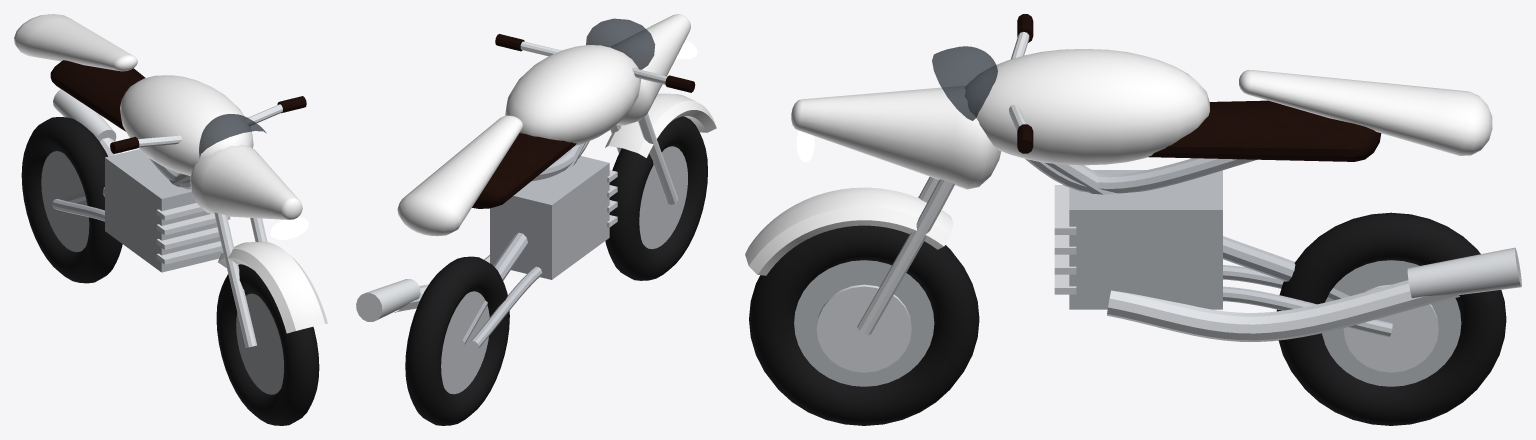
Rendered from moto.glb.
3 renders of one model, left to right at view 1: azimuth 30°, elevation 25°; view 2: azimuth 150°, elevation 25°; view 3: azimuth 270°, elevation 25°, orthographic. The views are drawn at different scales.
Visible parts, largest first — view 1: moto; view 2: moto; view 3: moto.
Part boxes in pixels (box(x1,y1,x2,y2)): moto: box(14, 14, 327, 425); moto: box(356, 14, 716, 425); moto: box(745, 14, 1521, 425).
Bounding box in the file's own units: 0.814 × 1.12 × 2.12.
7 materials, 1 textured.
